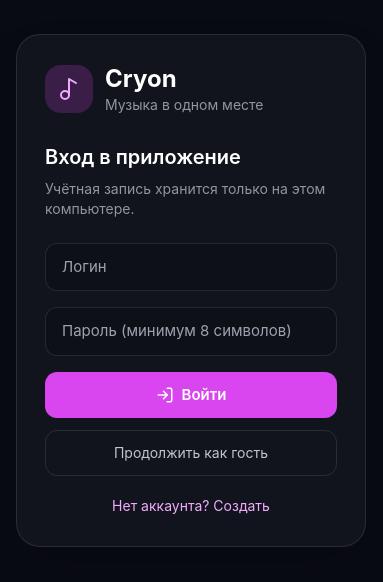
AuthPage › показывает ошибку входа и не завершает авторизацию
In the field labelled "Логин": {"x": 191, "y": 267} [45, 242, 337, 291], type "alex"
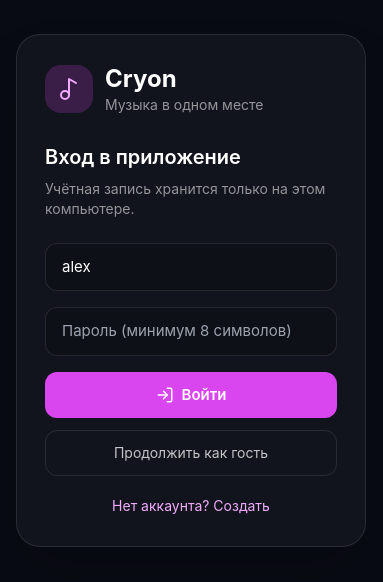
In the password field labelled "Пароль": {"x": 191, "y": 331} [45, 307, 337, 356], type "password1"
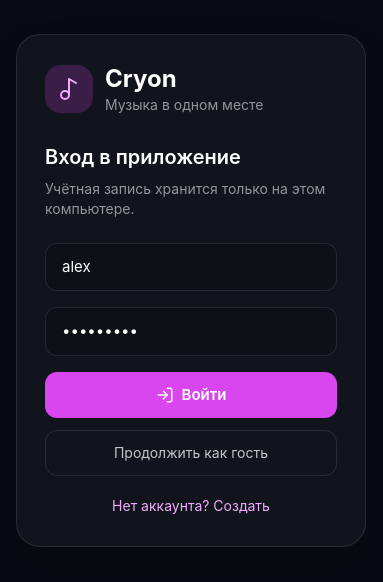
Click the button "Войти": {"x": 191, "y": 395} [45, 372, 337, 418]
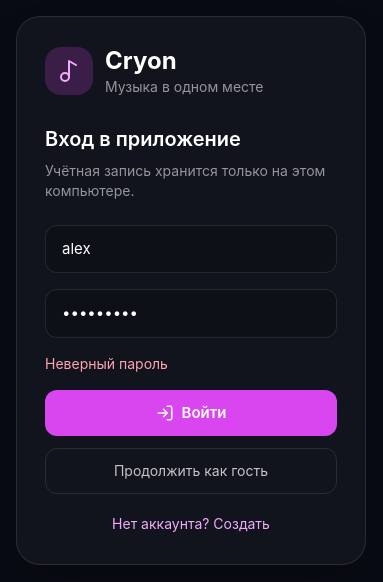
Expected: the message reads "Неверный пароль", [45, 354, 168, 372]
